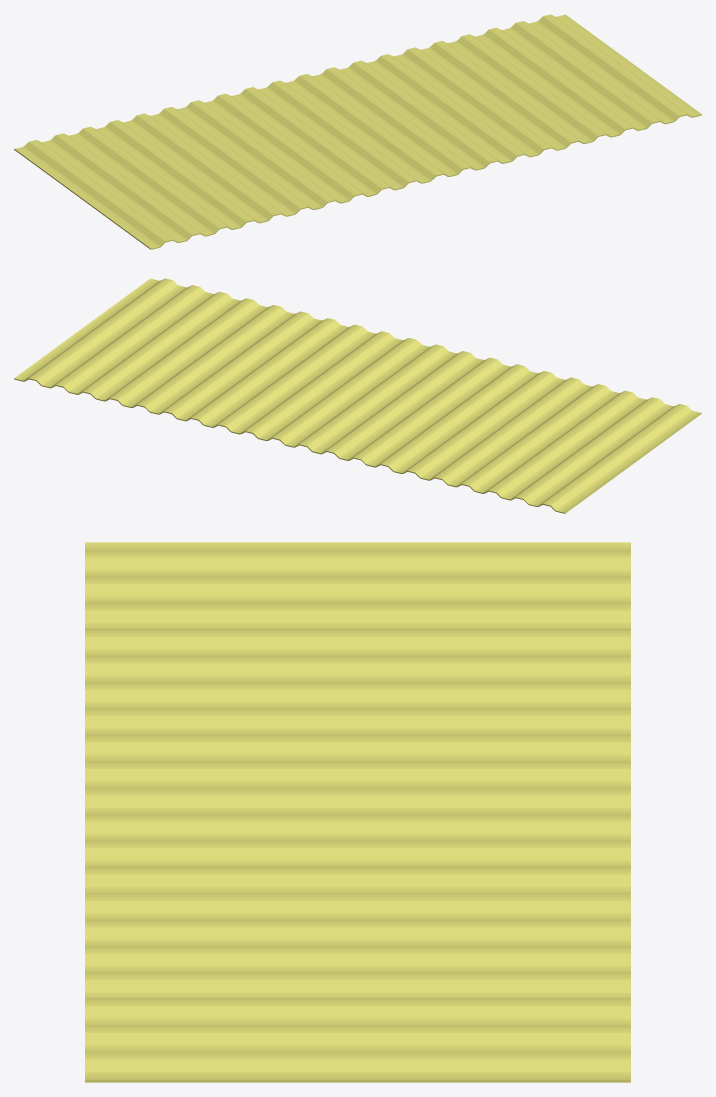
The model's file is ceiling-sprayfoam.glb.
3 views of the same model, one above another, from view 1: azimuth 30°, elevation 25°; view 2: azimuth 150°, elevation 25°; view 3: azimuth 270°, elevation 25° (orthographic). The views are drawn at different scales.
Visible parts, largest first — view 1: 20FT HC Sprayfoam_Ceiling; view 2: 20FT HC Sprayfoam_Ceiling; view 3: 20FT HC Sprayfoam_Ceiling.
Boxes of the visible parts, x1,y1,x2,y2 form: 20FT HC Sprayfoam_Ceiling: (14, 14, 701, 249); 20FT HC Sprayfoam_Ceiling: (14, 278, 701, 513); 20FT HC Sprayfoam_Ceiling: (85, 542, 630, 1082).
Bounding box in the file's own units: 5.52 × 0.0463 × 2.37.
